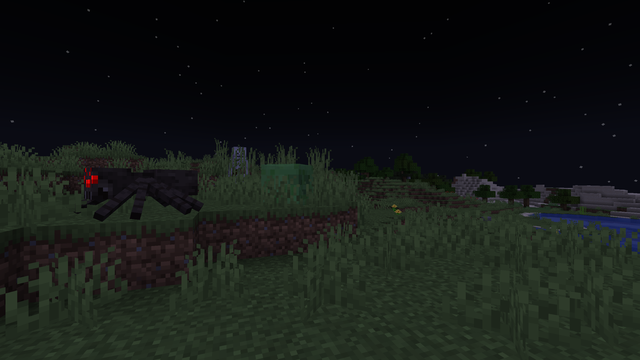araignees: (66, 160, 186, 221)
slimes: (265, 161, 313, 205)
squelettes: (231, 146, 246, 194)
